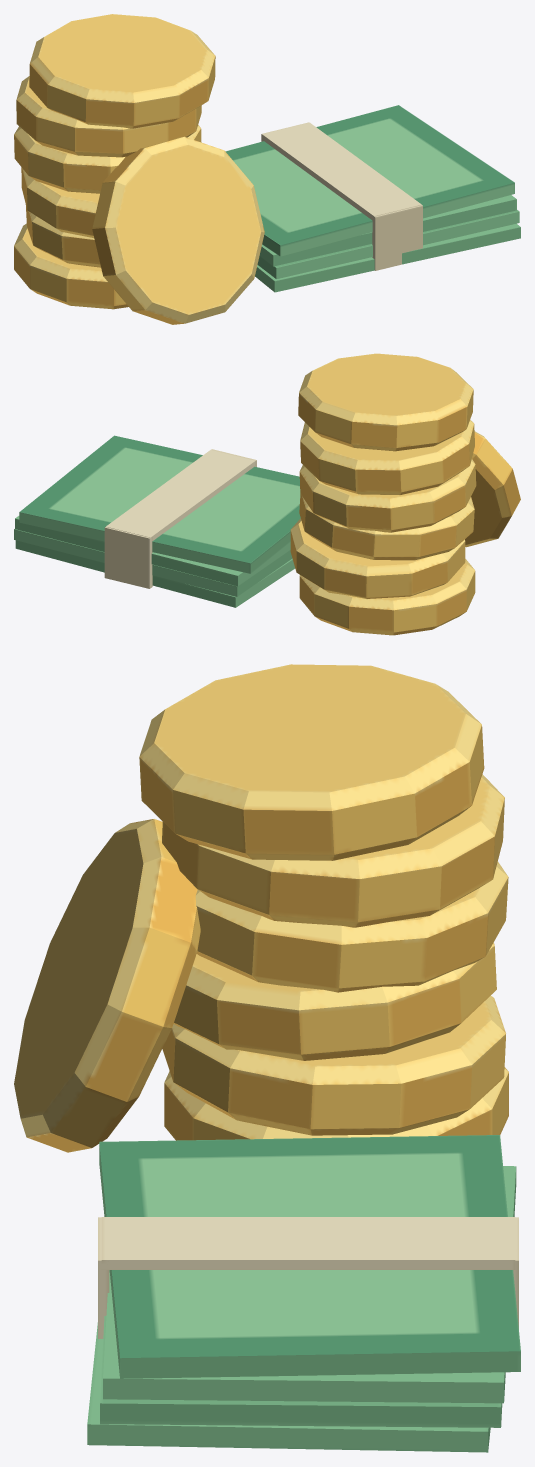
File: Cash.fbx
The picture shows the model from 3 angles, top to bottom: view 1: azimuth 30°, elevation 25°; view 2: azimuth 150°, elevation 25°; view 3: azimuth 270°, elevation 25°; orthographic projection. The views are drawn at different scales.
Parts seen in each view (by area): view 1: Cash; view 2: Cash; view 3: Cash.
Boxes of the visible parts, x1,y1,x2,y2 form: Cash: (14,14,520,324); Cash: (14,353,520,635); Cash: (14,664,520,1452).
Size of the model in its own units: 150 by 74.87 by 82.13.
1 material, 1 textured.
